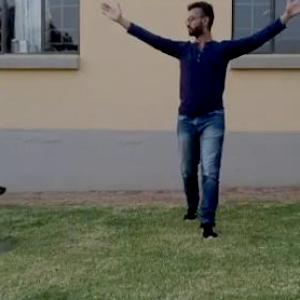takeoff: (94, 0, 299, 232)
